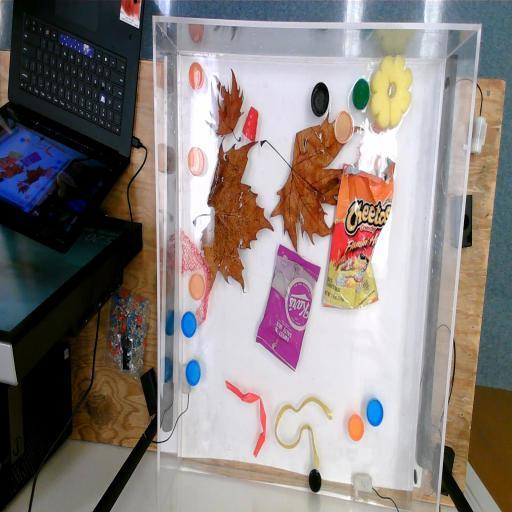Bottle Cap: (334, 108, 354, 146), (310, 81, 330, 118), (352, 77, 370, 110), (366, 396, 384, 428), (188, 146, 204, 178), (188, 272, 206, 300), (348, 413, 365, 442), (188, 62, 204, 92), (181, 310, 197, 339), (186, 359, 201, 387), (308, 466, 322, 494)
Cone Cap: (242, 106, 259, 144)
Leaf: (260, 110, 363, 254), (192, 134, 274, 295), (204, 68, 244, 144)
Netting: (179, 227, 210, 329), (357, 118, 387, 176)
Plastic Bag: (322, 158, 396, 310), (254, 242, 322, 374)
Plastic Strand: (274, 395, 334, 469), (225, 378, 267, 458)
Sponge: (370, 56, 413, 130)
